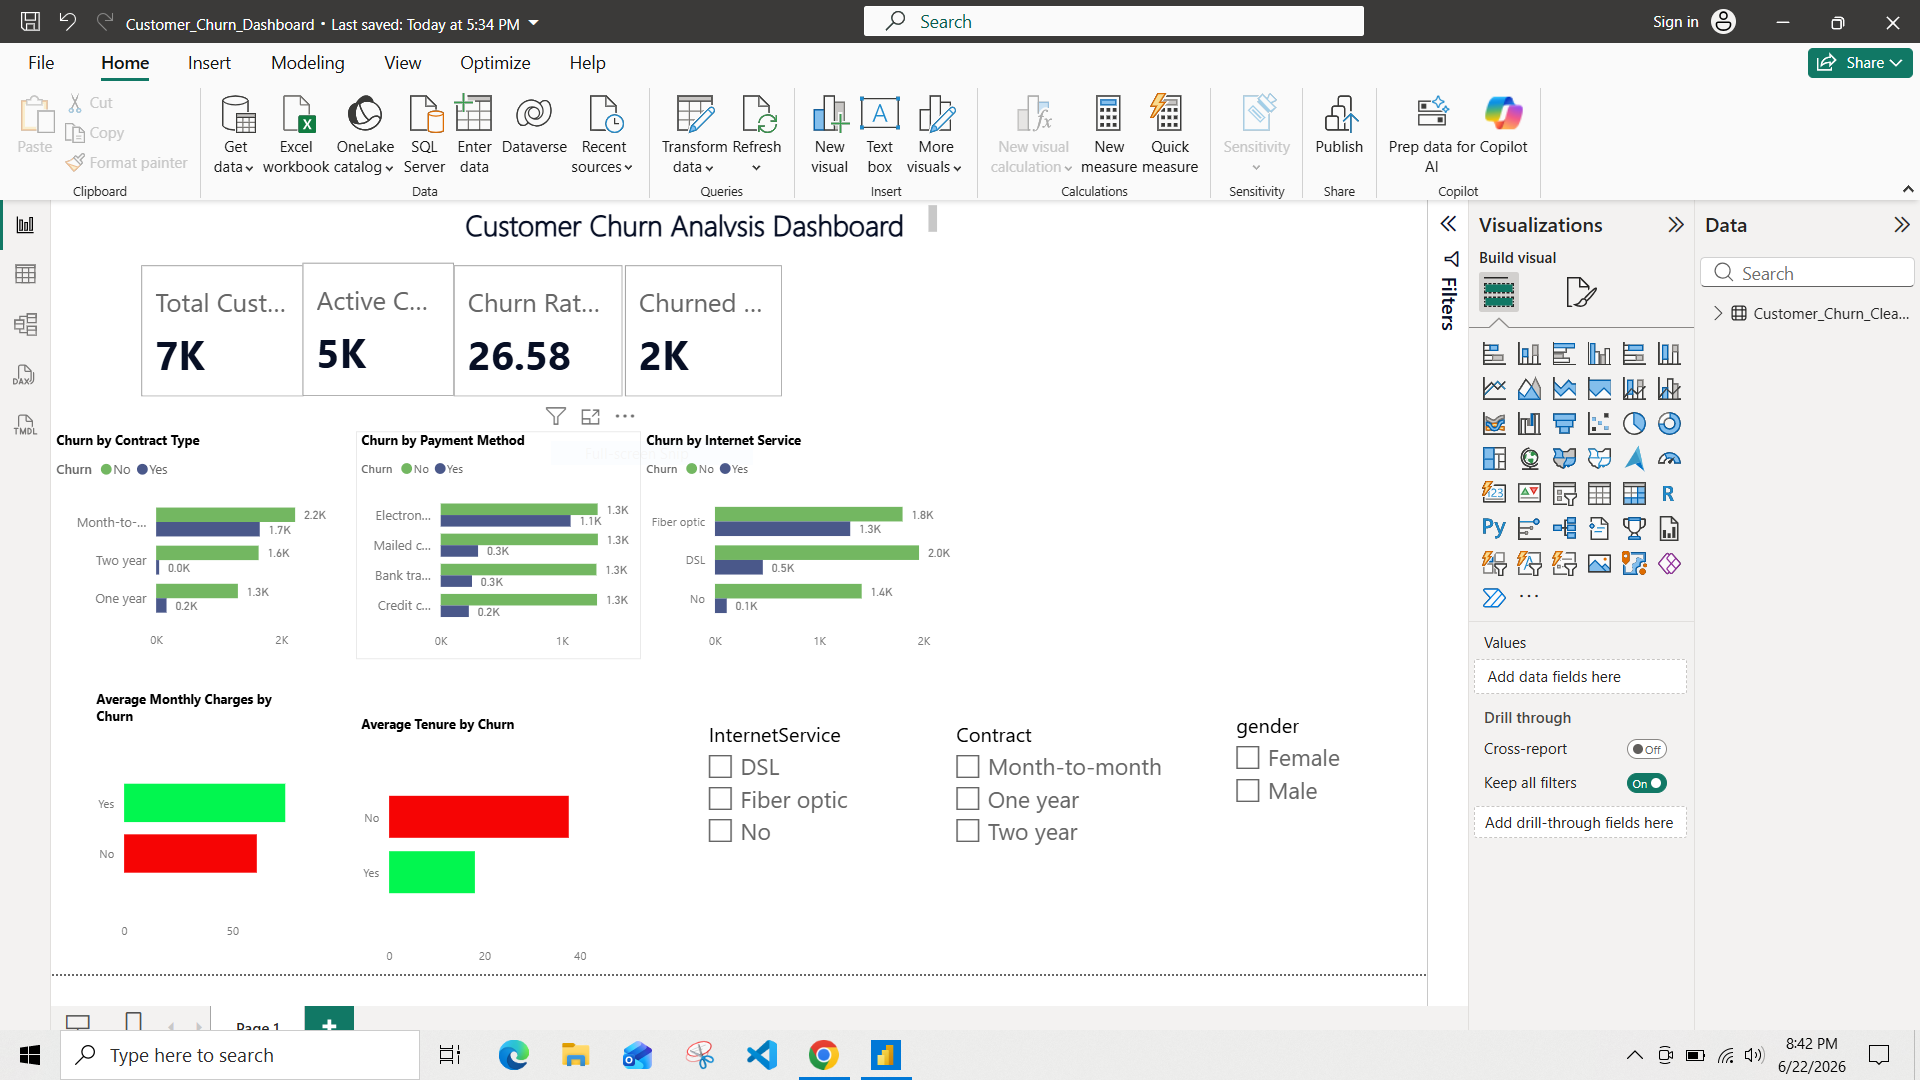

The dashboard page shown, as its layout file describes it:
{"tool":"powerbi","page":{"name":"Page 1","canvas":[1280,720],"ordinal":0},"visuals":[{"type":"cardVisual","fields":{"Data":["Customer_Churn_Cleaned.Total Customers"]},"box":[117.4,83.7,201.2,143],"z":0},{"type":"cardVisual","fields":{"Data":["Customer_Churn_Cleaned.Active Customers"]},"box":[307,80.2,196.5,151.2],"z":1000},{"type":"cardVisual","fields":{"Data":["Customer_Churn_Cleaned.Churned Customers"]},"box":[690.7,80.2,202.3,151.2],"z":2000},{"type":"cardVisual","fields":{"Data":["Customer_Churn_Cleaned.Churn Rate %"]},"box":[491.9,80.2,210.5,151.2],"z":3000},{"type":"clusteredBarChart","title":"Churn by Contract Type","fields":{"Category":["Customer_Churn_Cleaned.Contract"],"Y":["CountNonNull(Customer_Churn_Cleaned.customerID)"],"Series":["Customer_Churn_Cleaned.Churn"]},"box":[0,245.3,283.7,211.6],"z":4000},{"type":"clusteredBarChart","title":"Churn by Payment Method","fields":{"Category":["Customer_Churn_Cleaned.PaymentMethod"],"Y":["CountNonNull(Customer_Churn_Cleaned.customerID)"],"Series":["Customer_Churn_Cleaned.Churn"]},"box":[279.1,245.3,265.1,211.6],"z":5000},{"type":"clusteredBarChart","title":"Churn by Internet Service","fields":{"Category":["Customer_Churn_Cleaned.InternetService"],"Y":["CountNonNull(Customer_Churn_Cleaned.customerID)"],"Series":["Customer_Churn_Cleaned.Churn"]},"box":[544.2,245.3,276.7,211.6],"z":6000},{"type":"clusteredBarChart","title":"Average Monthly Charges by Churn","fields":{"Category":["Customer_Churn_Cleaned.Churn"],"Y":["Avg(Customer_Churn_Cleaned.MonthlyCharges)"]},"box":[40.7,479.1,229.1,240.7],"z":7000},{"type":"clusteredBarChart","title":"Average Tenure by Churn","fields":{"Y":["Avg(Customer_Churn_Cleaned.tenure)"],"Category":["Customer_Churn_Cleaned.Churn"]},"box":[279.1,476.7,250,243],"z":8000},{"type":"slicer","fields":{"Values":["Customer_Churn_Cleaned.gender"]},"box":[1074.4,479.1,205.8,218.6],"z":9000},{"type":"slicer","fields":{"Values":["Customer_Churn_Cleaned.Contract"]},"box":[829.1,479.1,245.3,218.6],"z":10000},{"type":"slicer","fields":{"Values":["Customer_Churn_Cleaned.InternetService"]},"box":[598.8,479.1,230.2,218.6],"z":11000},{"type":"textbox","box":[380.2,0,543,51.2],"z":12000}]}

Visuals, with their boxes on the page's 1280x720 design canvas (x1, y1, x2, y2). These are canvas units, not pixel positions in the 1920x1080 screenshot, which may show the page scaled, cropped or inside an application window:
cardVisual - Customer_Churn_Cleaned.Total Customers: (x1=117, y1=84, x2=319, y2=227)
cardVisual - Customer_Churn_Cleaned.Active Customers: (x1=307, y1=80, x2=504, y2=231)
cardVisual - Customer_Churn_Cleaned.Churned Customers: (x1=691, y1=80, x2=893, y2=231)
cardVisual - Customer_Churn_Cleaned.Churn Rate %: (x1=492, y1=80, x2=702, y2=231)
"Churn by Contract Type" clusteredBarChart: (x1=0, y1=245, x2=284, y2=457)
"Churn by Payment Method" clusteredBarChart: (x1=279, y1=245, x2=544, y2=457)
"Churn by Internet Service" clusteredBarChart: (x1=544, y1=245, x2=821, y2=457)
"Average Monthly Charges by Churn" clusteredBarChart: (x1=41, y1=479, x2=270, y2=720)
"Average Tenure by Churn" clusteredBarChart: (x1=279, y1=477, x2=529, y2=720)
slicer - Customer_Churn_Cleaned.gender: (x1=1074, y1=479, x2=1280, y2=698)
slicer - Customer_Churn_Cleaned.Contract: (x1=829, y1=479, x2=1074, y2=698)
slicer - Customer_Churn_Cleaned.InternetService: (x1=599, y1=479, x2=829, y2=698)
textbox: (x1=380, y1=0, x2=923, y2=51)
